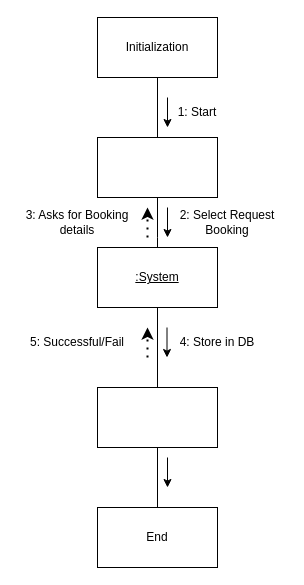
Some shapes in this 304 by 585 pixel diagram are drawn without their labels. The centre of each missing label's shape, as x and y in pixels:
":DB" goes at (157,417).
":Faculty" goes at (157,167).
